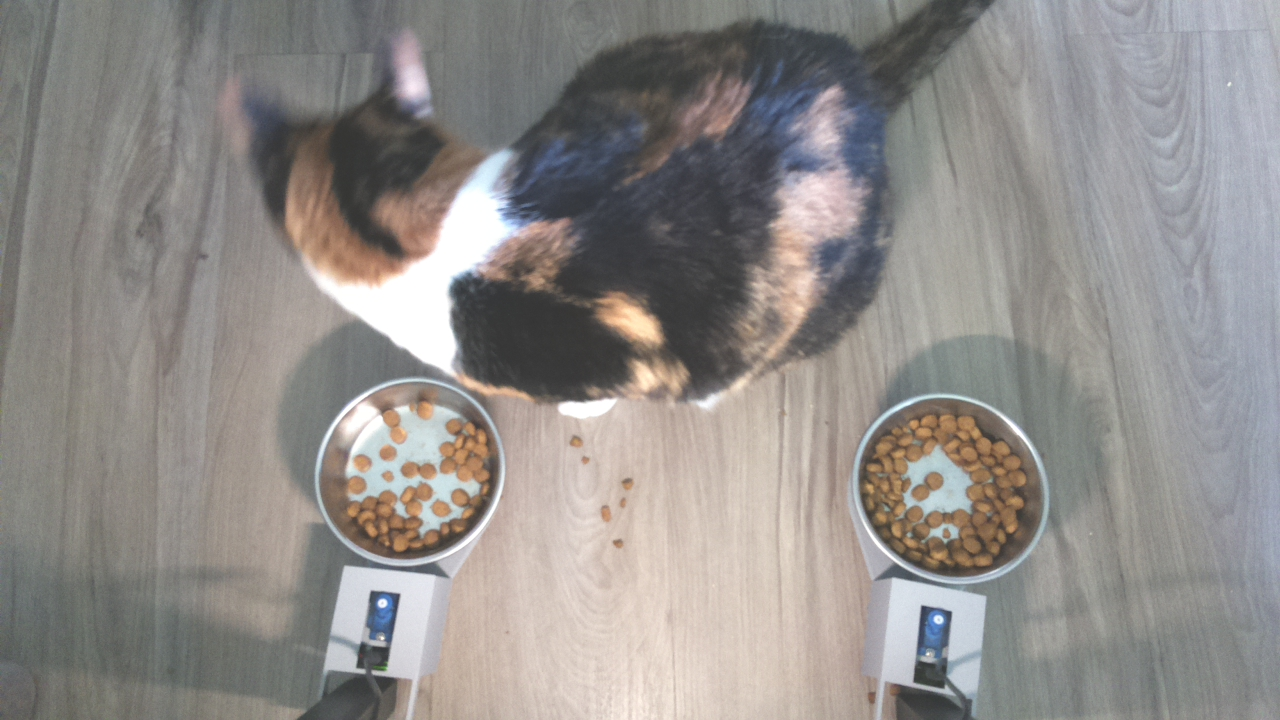bella: (191, 12, 512, 318)
open_bowl: (850, 387, 1051, 591), (313, 373, 509, 572)
